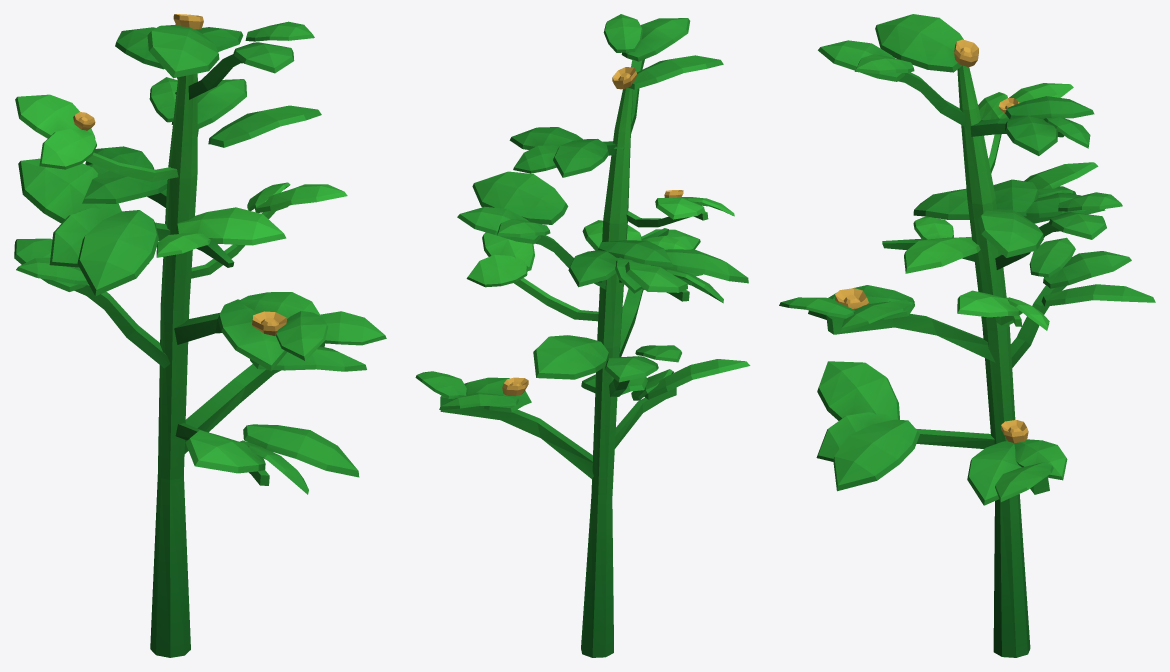
File: crop_tomato_stage2.glb
3 renders of one model, left to right at view 1: azimuth 30°, elevation 25°; view 2: azimuth 150°, elevation 25°; view 3: azimuth 270°, elevation 25°, orthographic. The views are drawn at different scales.
Visible parts, largest first — view 1: crop_tomato_stage2; view 2: crop_tomato_stage2; view 3: crop_tomato_stage2.
Part boxes in pixels (x1,y1,x2,y2): crop_tomato_stage2: [14, 14, 386, 657]; crop_tomato_stage2: [415, 14, 750, 657]; crop_tomato_stage2: [779, 14, 1155, 657].
Size of the model in its own units: 0.3457 by 0.62 by 0.3466.
Materials: 1 (1 with a texture image).
